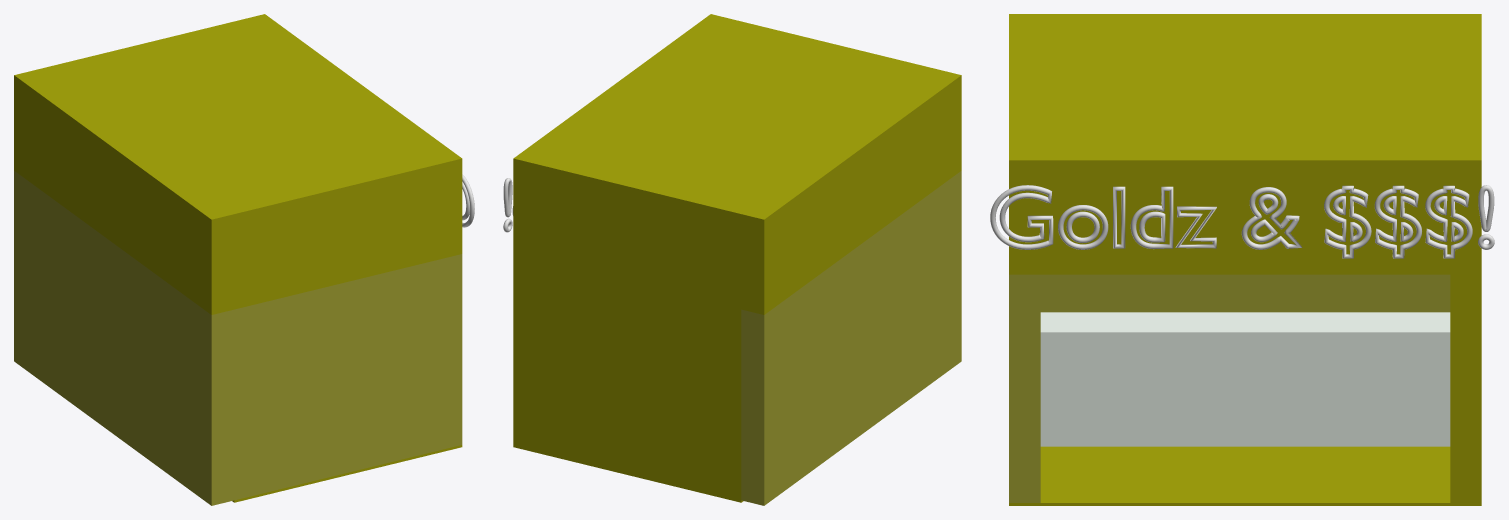
File: Shop2.fbx
The picture shows the model from 3 angles, left to right: view 1: azimuth 30°, elevation 25°; view 2: azimuth 150°, elevation 25°; view 3: azimuth 270°, elevation 25°; orthographic projection. The views are drawn at different scales.
Parts seen in each view (by area): view 1: Shop, Pillar.001, Pillar.002, Cube; view 2: Shop, Pillar, Pillar.002, Cube; view 3: Shop, Cube.002, Cube, Pillar.002, GoldzText, Pillar, Pillar.001, MoneyText.
Boxes of the visible parts, x1,y1,x2,y2 form: Shop: [14, 14, 462, 314]; Pillar.001: [234, 254, 462, 500]; Pillar.002: [14, 171, 234, 505]; Cube: [232, 445, 462, 502]; Shop: [513, 14, 961, 314]; Pillar: [513, 254, 741, 500]; Pillar.002: [741, 171, 961, 505]; Cube: [513, 445, 743, 502]; Shop: [1009, 14, 1481, 274]; Cube.002: [1040, 312, 1450, 446]; Cube: [1009, 446, 1481, 505]; Pillar.002: [1040, 274, 1450, 312]; GoldzText: [990, 185, 1302, 249]; Pillar: [1450, 274, 1481, 502]; Pillar.001: [1009, 274, 1040, 502]; MoneyText: [1324, 185, 1494, 258].
Bounding box in the file's own units: 2248 × 2420 × 3203.
